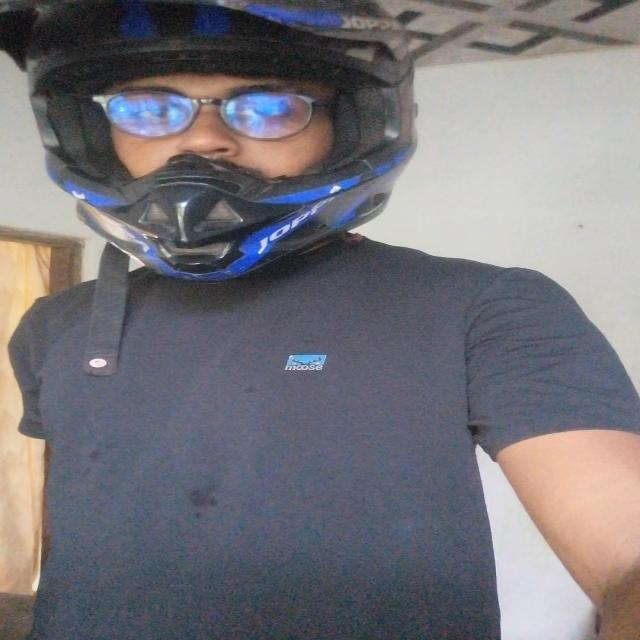Helmet_Wearer: (12, 0, 482, 317)
